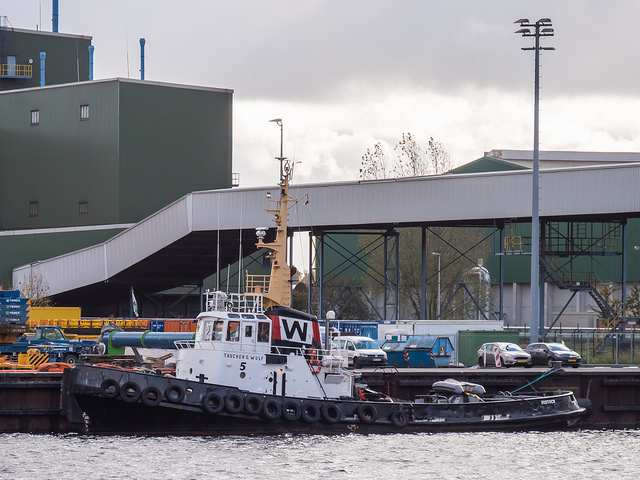tug_boat: (68, 226, 607, 437)
